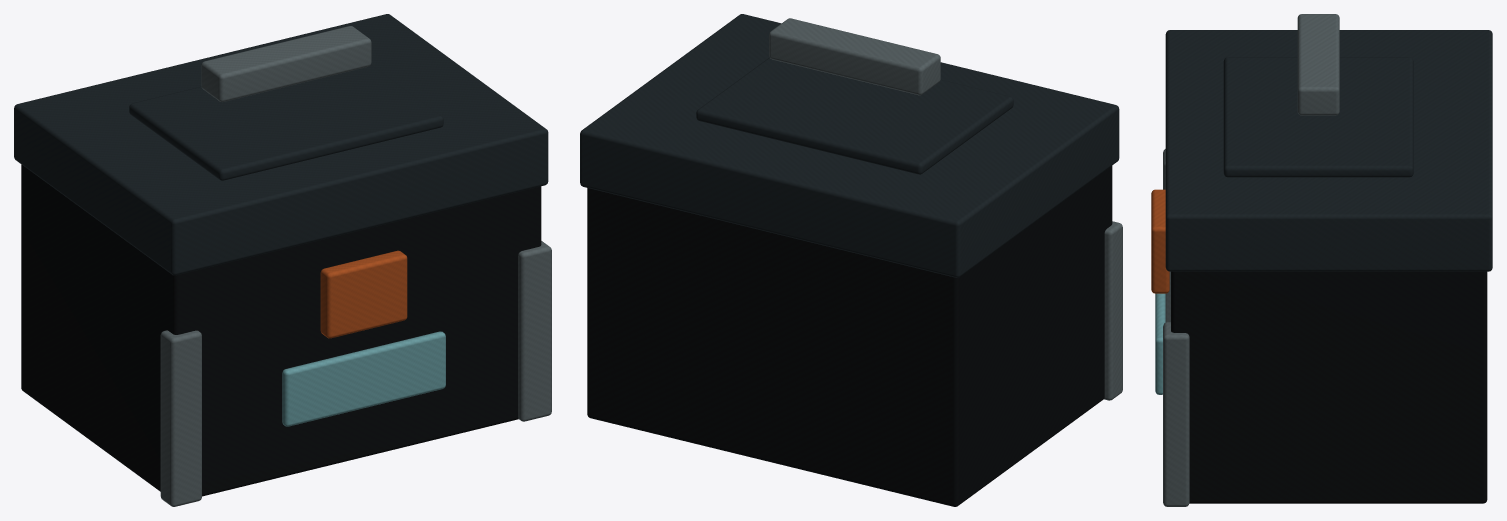
File: SpecimenTransportCase.fbx
3 renders of one model, left to right at view 1: azimuth 30°, elevation 25°; view 2: azimuth 150°, elevation 25°; view 3: azimuth 270°, elevation 25°, orthographic.
Parts seen in each view (by area): view 1: SpecimenTransportCase_Mesh; view 2: SpecimenTransportCase_Mesh; view 3: SpecimenTransportCase_Mesh.
Part boxes in pixels (bbox=[...]): SpecimenTransportCase_Mesh: bbox=[14, 14, 551, 506]; SpecimenTransportCase_Mesh: bbox=[580, 14, 1122, 506]; SpecimenTransportCase_Mesh: bbox=[1151, 14, 1492, 506].
Bounding box in the file's own units: 85 × 76 × 64.75.
Materials: 5 (5 with a texture image).
